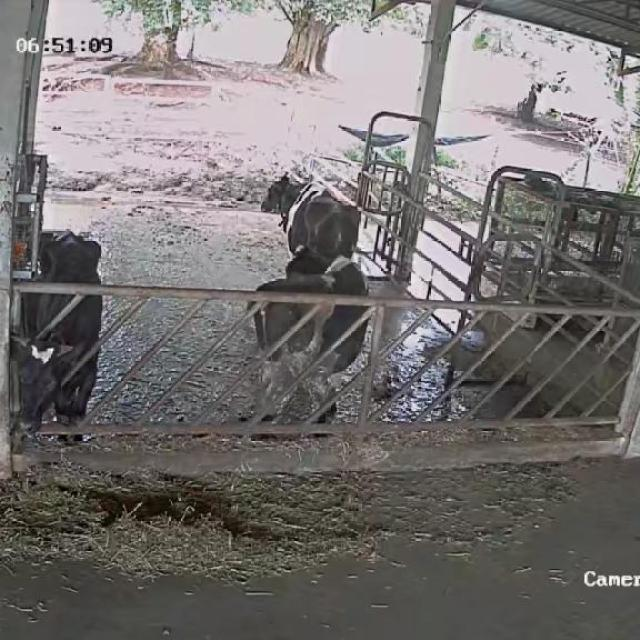feeding: (12, 232, 108, 448)
standing: (254, 246, 374, 443), (257, 176, 361, 276)
